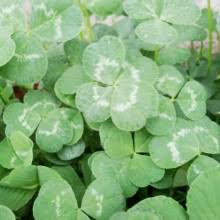4-clover: (74, 40, 162, 130)
